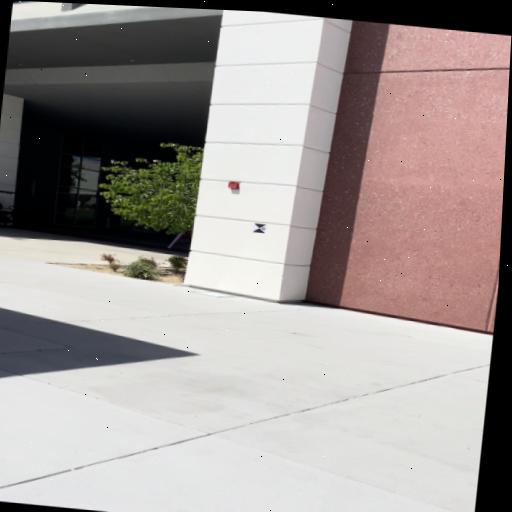target6: (250, 223, 267, 234)
